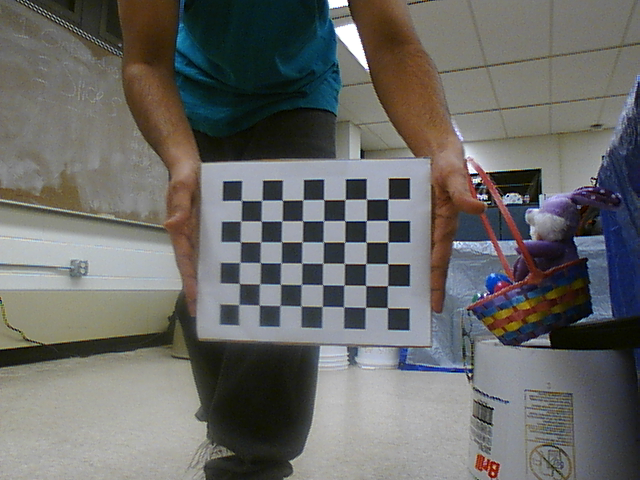bunny: (457, 155, 603, 340)
